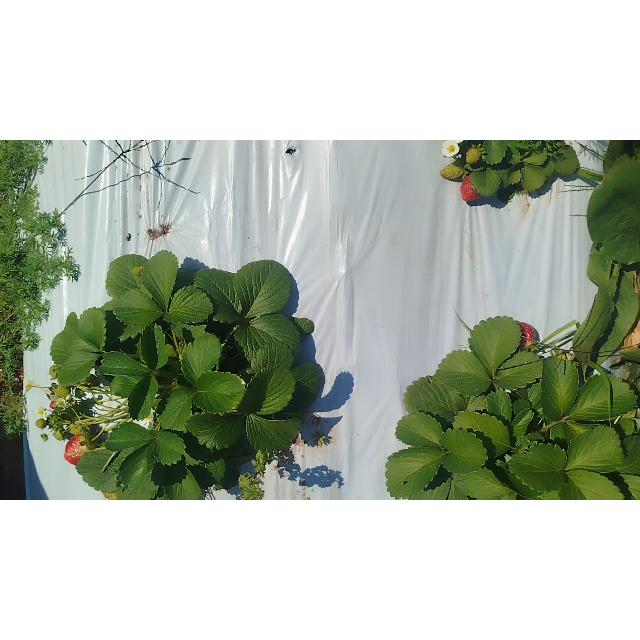maduro: (461, 175, 481, 202), (520, 322, 534, 343)
no-maduro: (441, 163, 464, 179), (466, 148, 480, 164), (69, 424, 85, 436), (48, 364, 60, 380), (55, 386, 69, 396)
semi-maduro: (64, 434, 86, 466)
